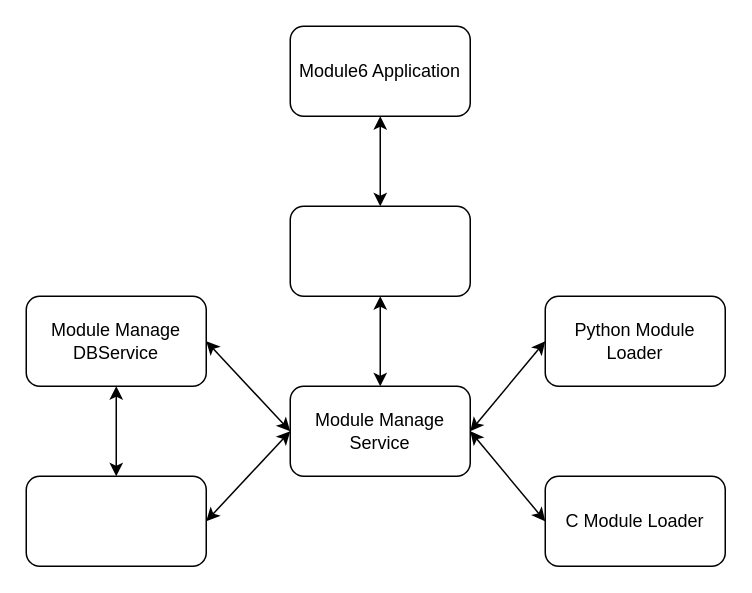
Some shapes in this 752 by 593 pixel diagram are drawn without their labels. The box of each missing label's shape, as (x1, y1, x2, y2) in pixels:
Module Description Generator: (25, 475, 206, 566)
Module Manage Controller: (289, 205, 470, 296)
